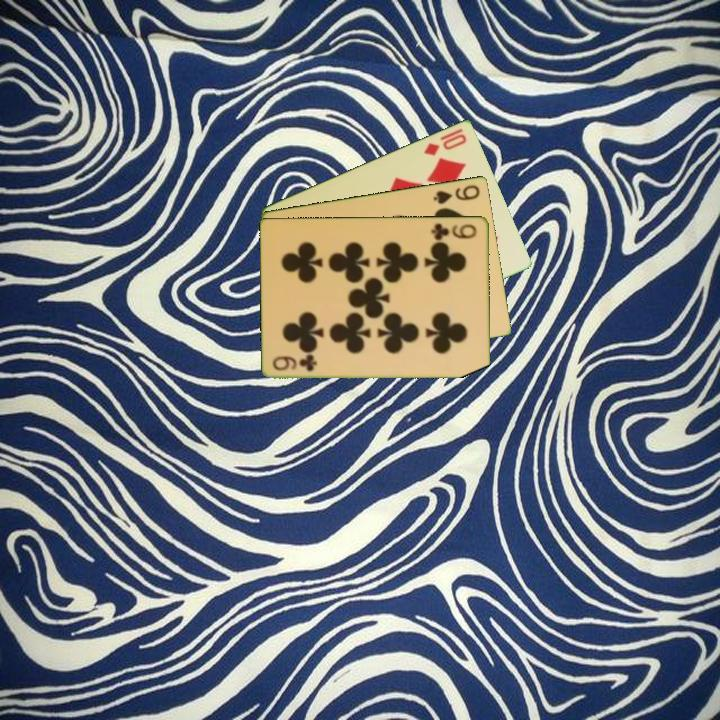10d: (420, 130, 470, 158)
9c: (428, 219, 480, 242), (270, 352, 320, 374)
9s: (430, 181, 483, 207)
